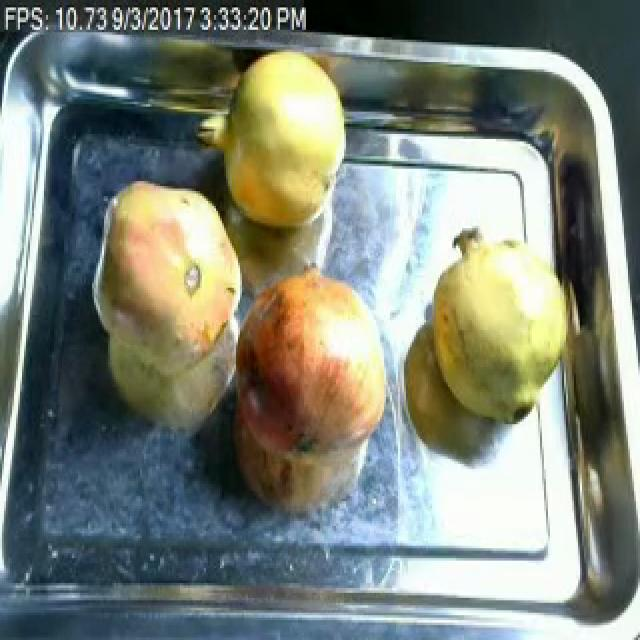fruit: (224, 258, 398, 474), (84, 168, 252, 390), (182, 45, 356, 243), (420, 223, 578, 437)
